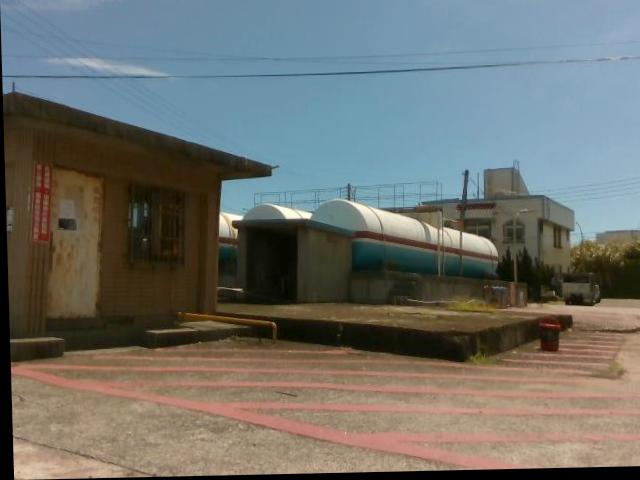pollute: (534, 316, 562, 356)
